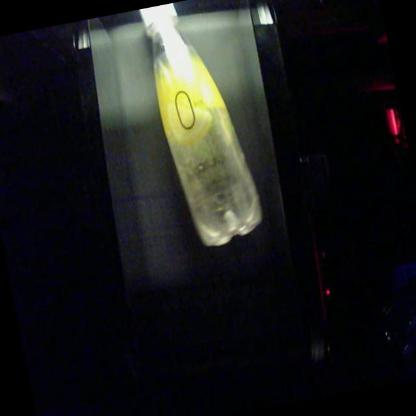Plastic Bottle: (142, 6, 262, 245)
